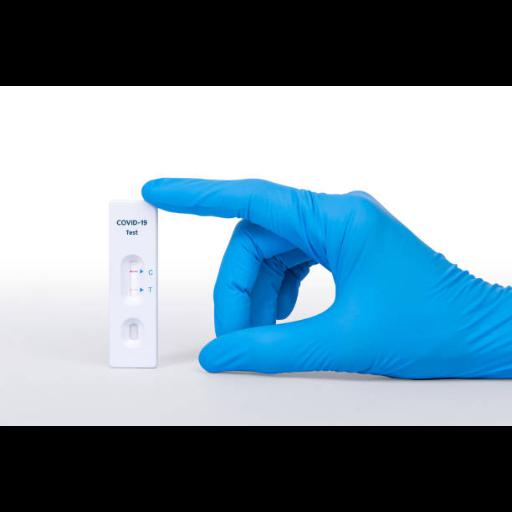Pos: (109, 200, 157, 364)
